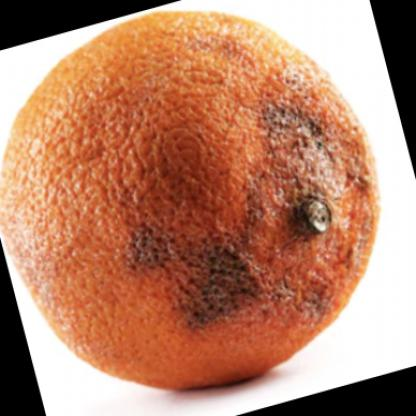rotten_orange: (1, 4, 382, 395)
